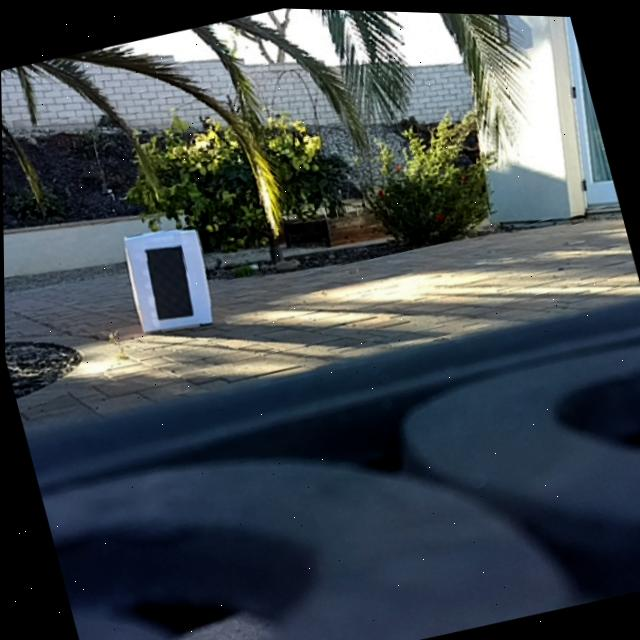led: (144, 243, 192, 323)
